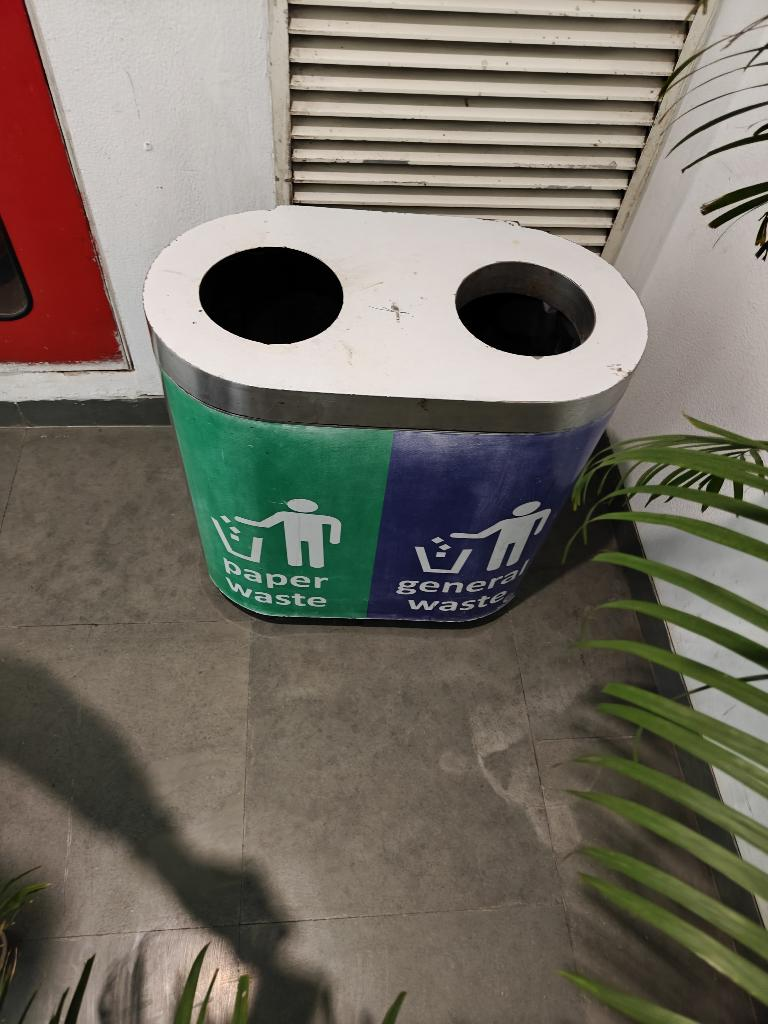dustbin: (128, 188, 674, 644)
